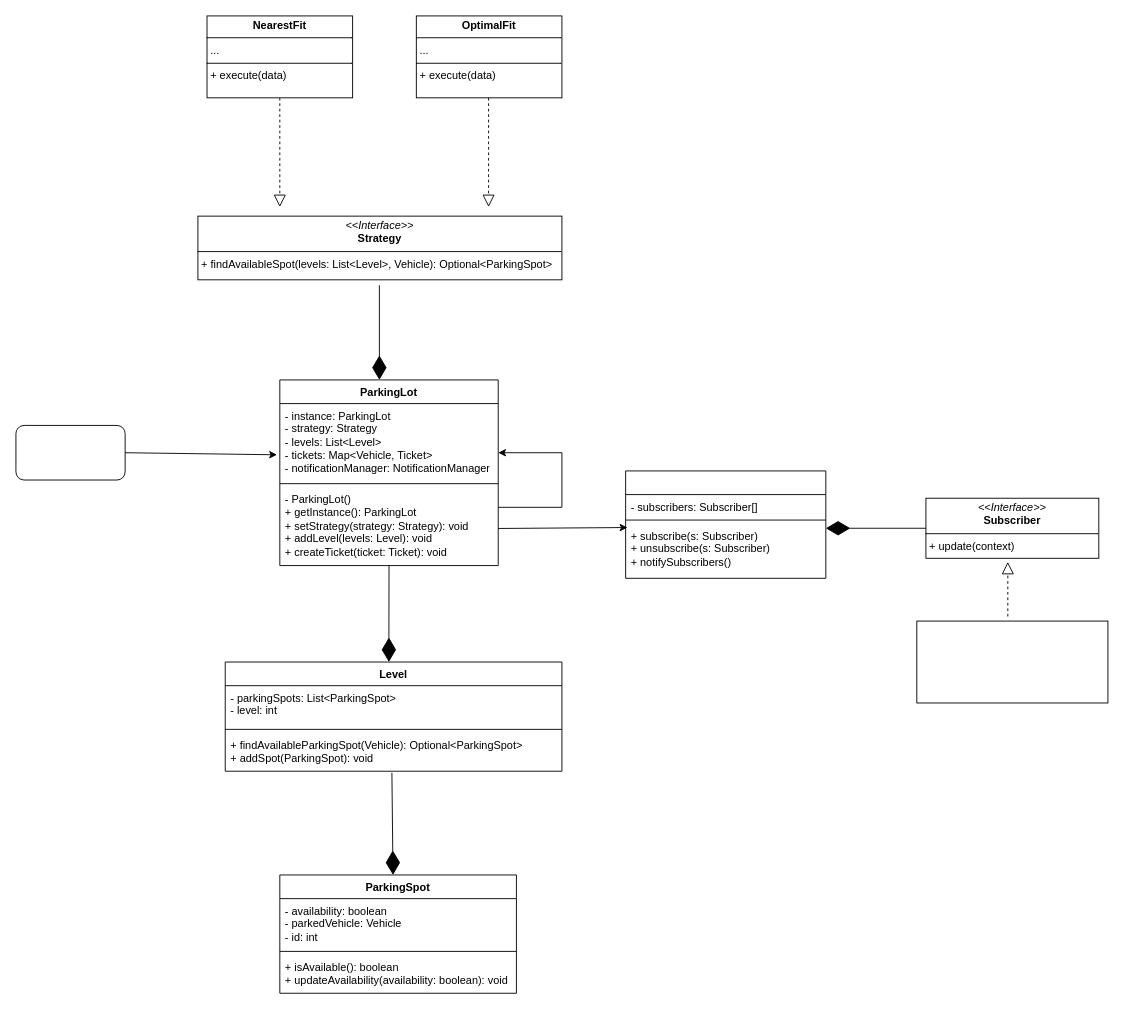
This 1124x1012 diagram has some shape labels left out. The shapes that lost their labels are listed below. From the top down, each one's box as (x1, y1, x2, y2) in pixels, then its label:
(15, 425, 125, 480): Client
(625, 470, 826, 578): NotificationManager
(916, 620, 1108, 703): DisplayBoard ... + update(context) + displayAvailableSpotsNumber()
